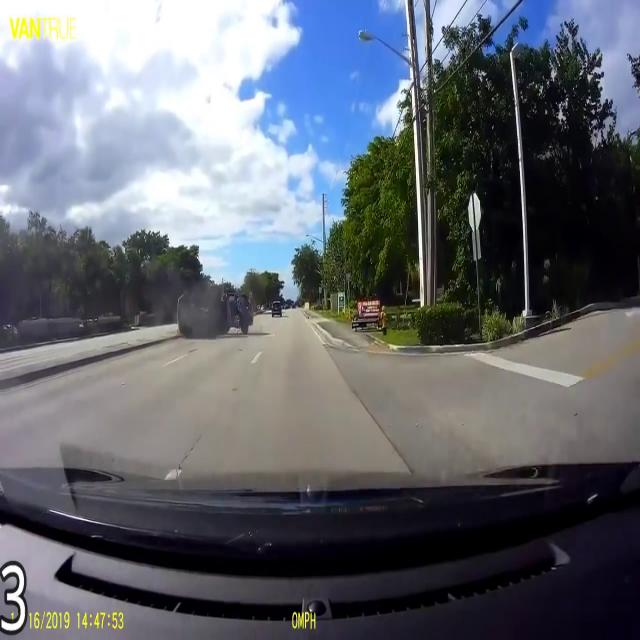accident: (174, 281, 228, 340)
